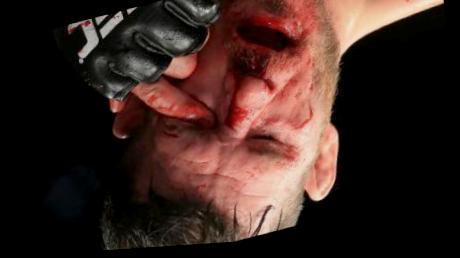Fire: (144, 0, 326, 173), (195, 176, 210, 204), (401, 0, 443, 8)
